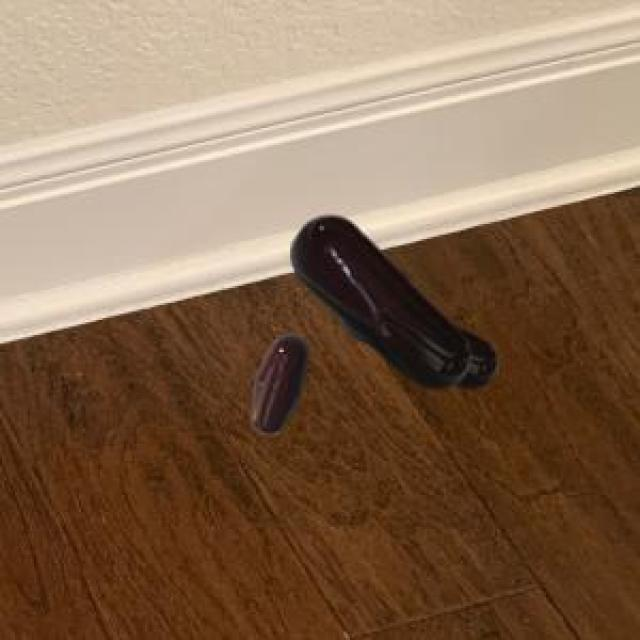DayZinc: (235, 192, 512, 476)
